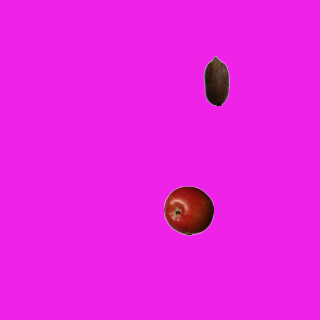Apple Braeburn: (163, 185, 213, 235)
Nut Pecan: (191, 55, 241, 105)
